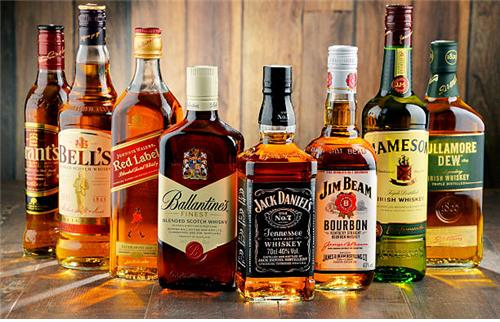alcohol: (232, 63, 317, 304), (156, 67, 244, 292), (360, 6, 426, 283), (113, 24, 183, 280), (307, 44, 377, 292), (56, 4, 119, 269), (424, 37, 484, 271), (22, 23, 73, 258)
